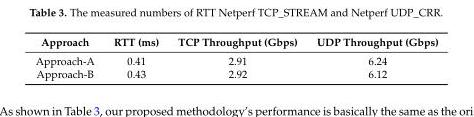table: (34, 35, 437, 80)
table column: (167, 35, 306, 80), (306, 35, 437, 80), (34, 35, 103, 80), (103, 35, 167, 80)
table column header: (34, 35, 437, 51)
table row: (34, 35, 437, 51), (34, 51, 437, 67), (34, 67, 437, 80)
